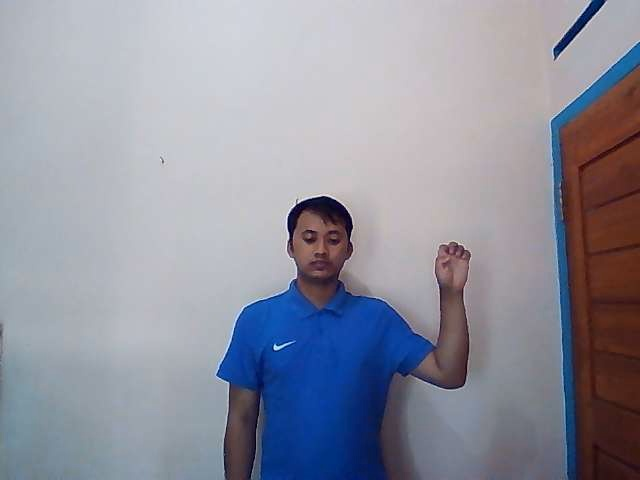E: (433, 241, 472, 290)
